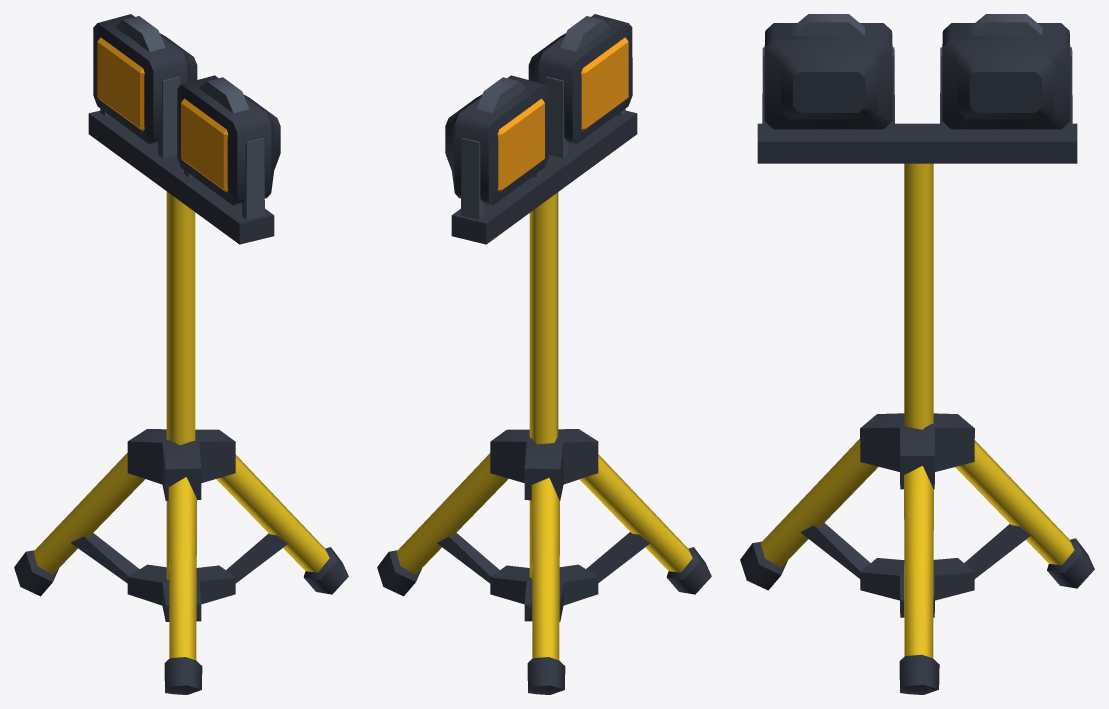
The model's file is LightsC_1_D.glb.
The picture shows the model from 3 angles, left to right: view 1: azimuth 30°, elevation 25°; view 2: azimuth 150°, elevation 25°; view 3: azimuth 270°, elevation 25°; orthographic projection. The views are drawn at different scales.
Parts seen in each view (by area): view 1: LightsC_1_D; view 2: LightsC_1_D; view 3: LightsC_1_D.
Boxes of the visible parts, x1,y1,x2,y2 form: LightsC_1_D: (14, 14, 348, 694); LightsC_1_D: (377, 14, 711, 694); LightsC_1_D: (740, 14, 1094, 694).
Bounding box in the file's own units: 0.7514 × 1.6 × 0.8505.
3 materials, 3 textured.
